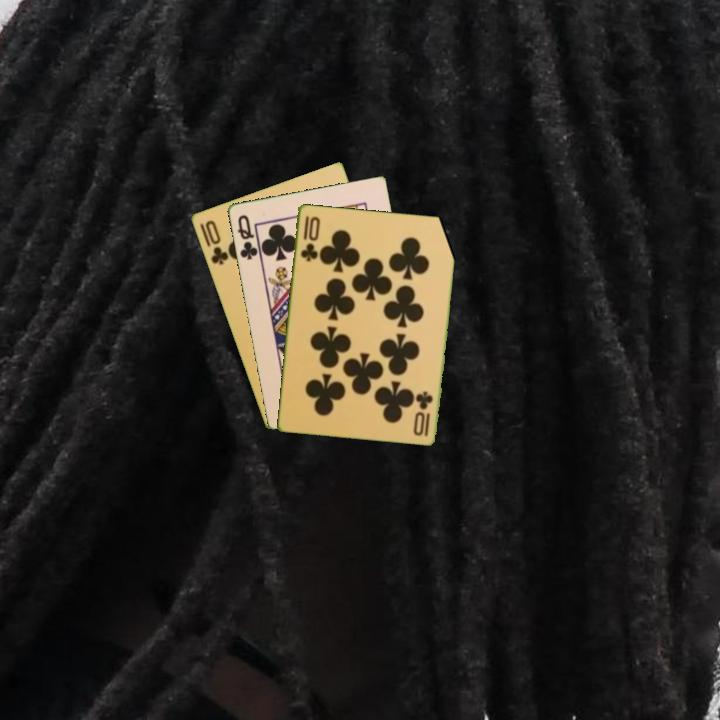10c: (201, 216, 231, 268), (297, 212, 322, 264), (411, 388, 435, 439)
Qc: (234, 211, 260, 262)
